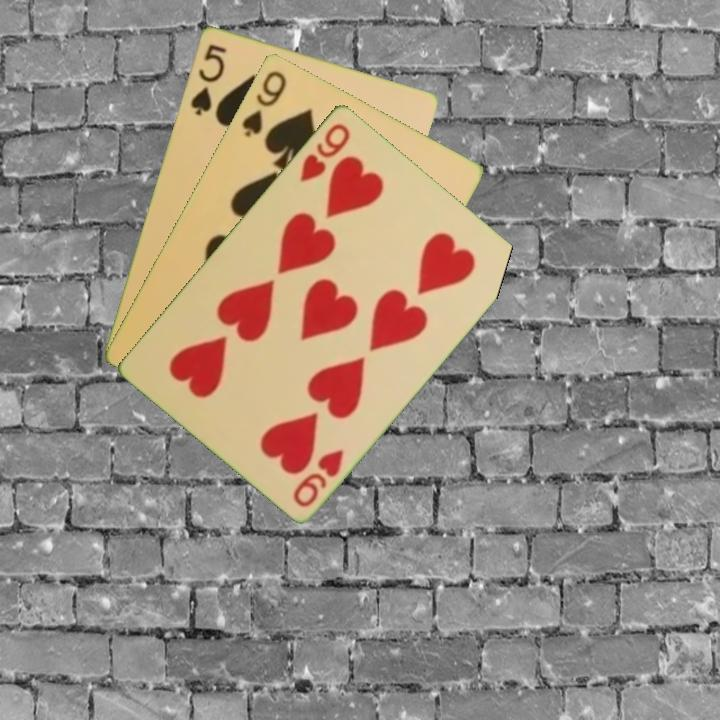5s: (186, 40, 229, 118)
9h: (296, 119, 353, 185), (289, 445, 346, 510)
9s: (238, 66, 289, 140)
